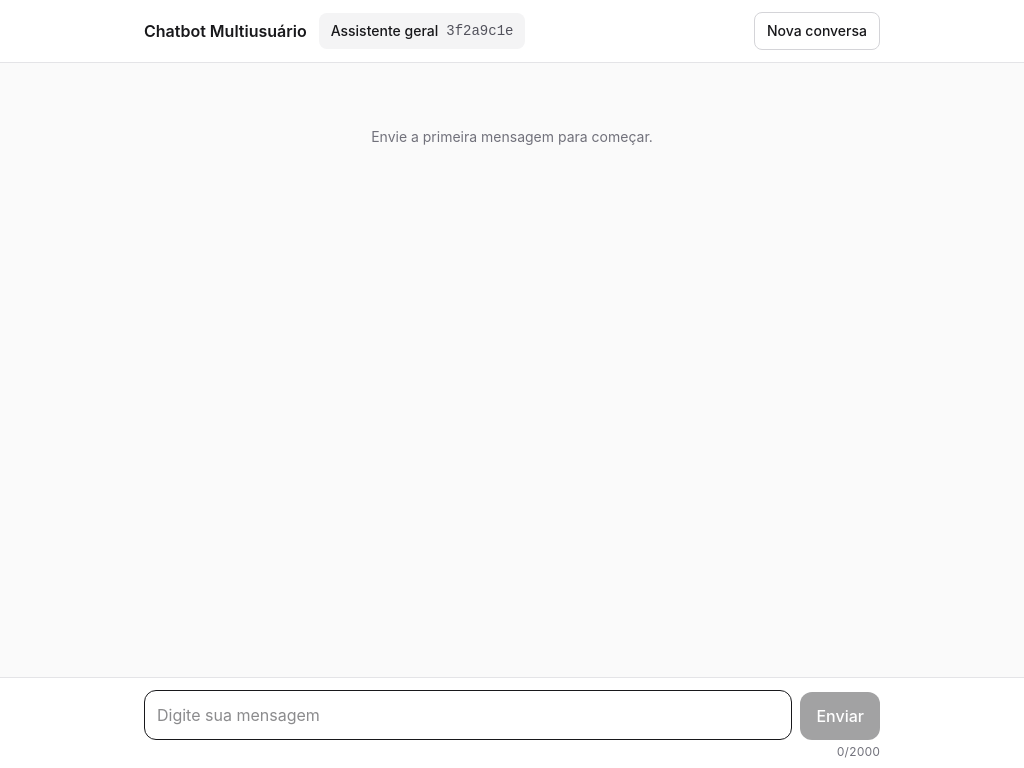
Test case: iniciar conversa › nova conversa apaga a sessão no servidor e volta para a tela inicial
Click the button "Nova conversa": (817, 31) [754, 12, 880, 50]
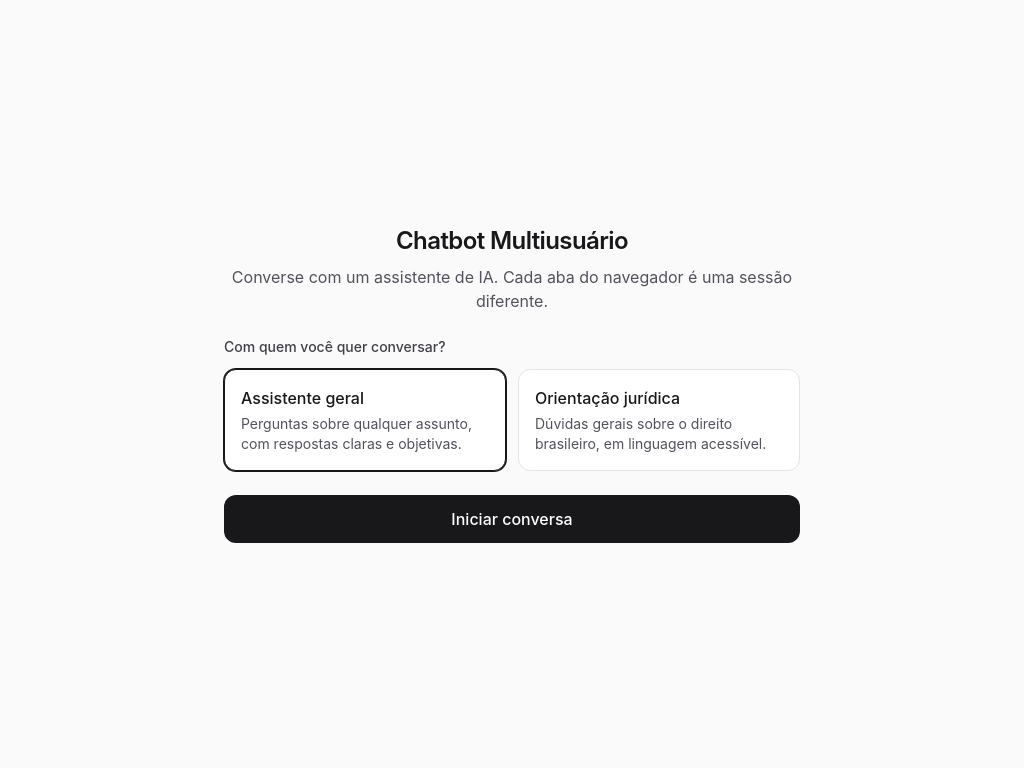
Result: the button "Iniciar conversa" is shown at [224, 495, 800, 543]
